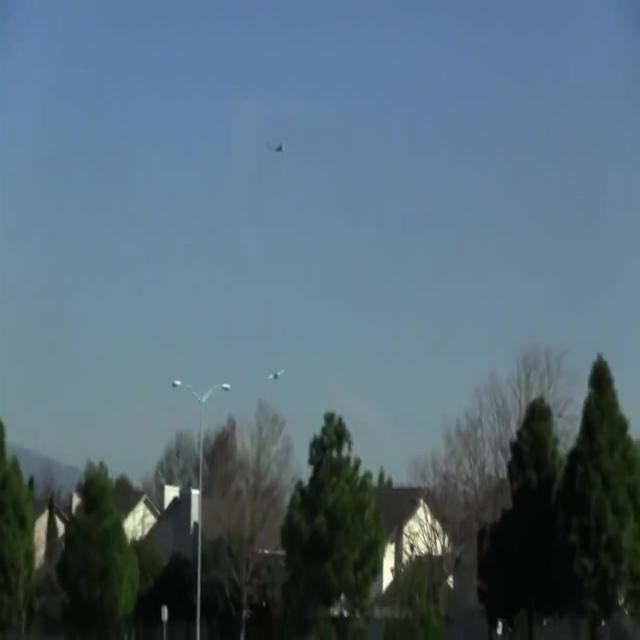iha: (266, 146, 287, 152), (267, 372, 286, 377)
